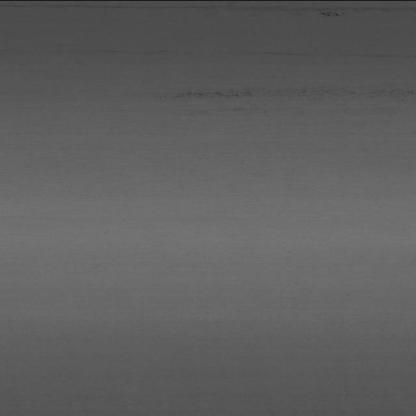inclusion: (160, 81, 412, 103), (310, 6, 350, 20)
